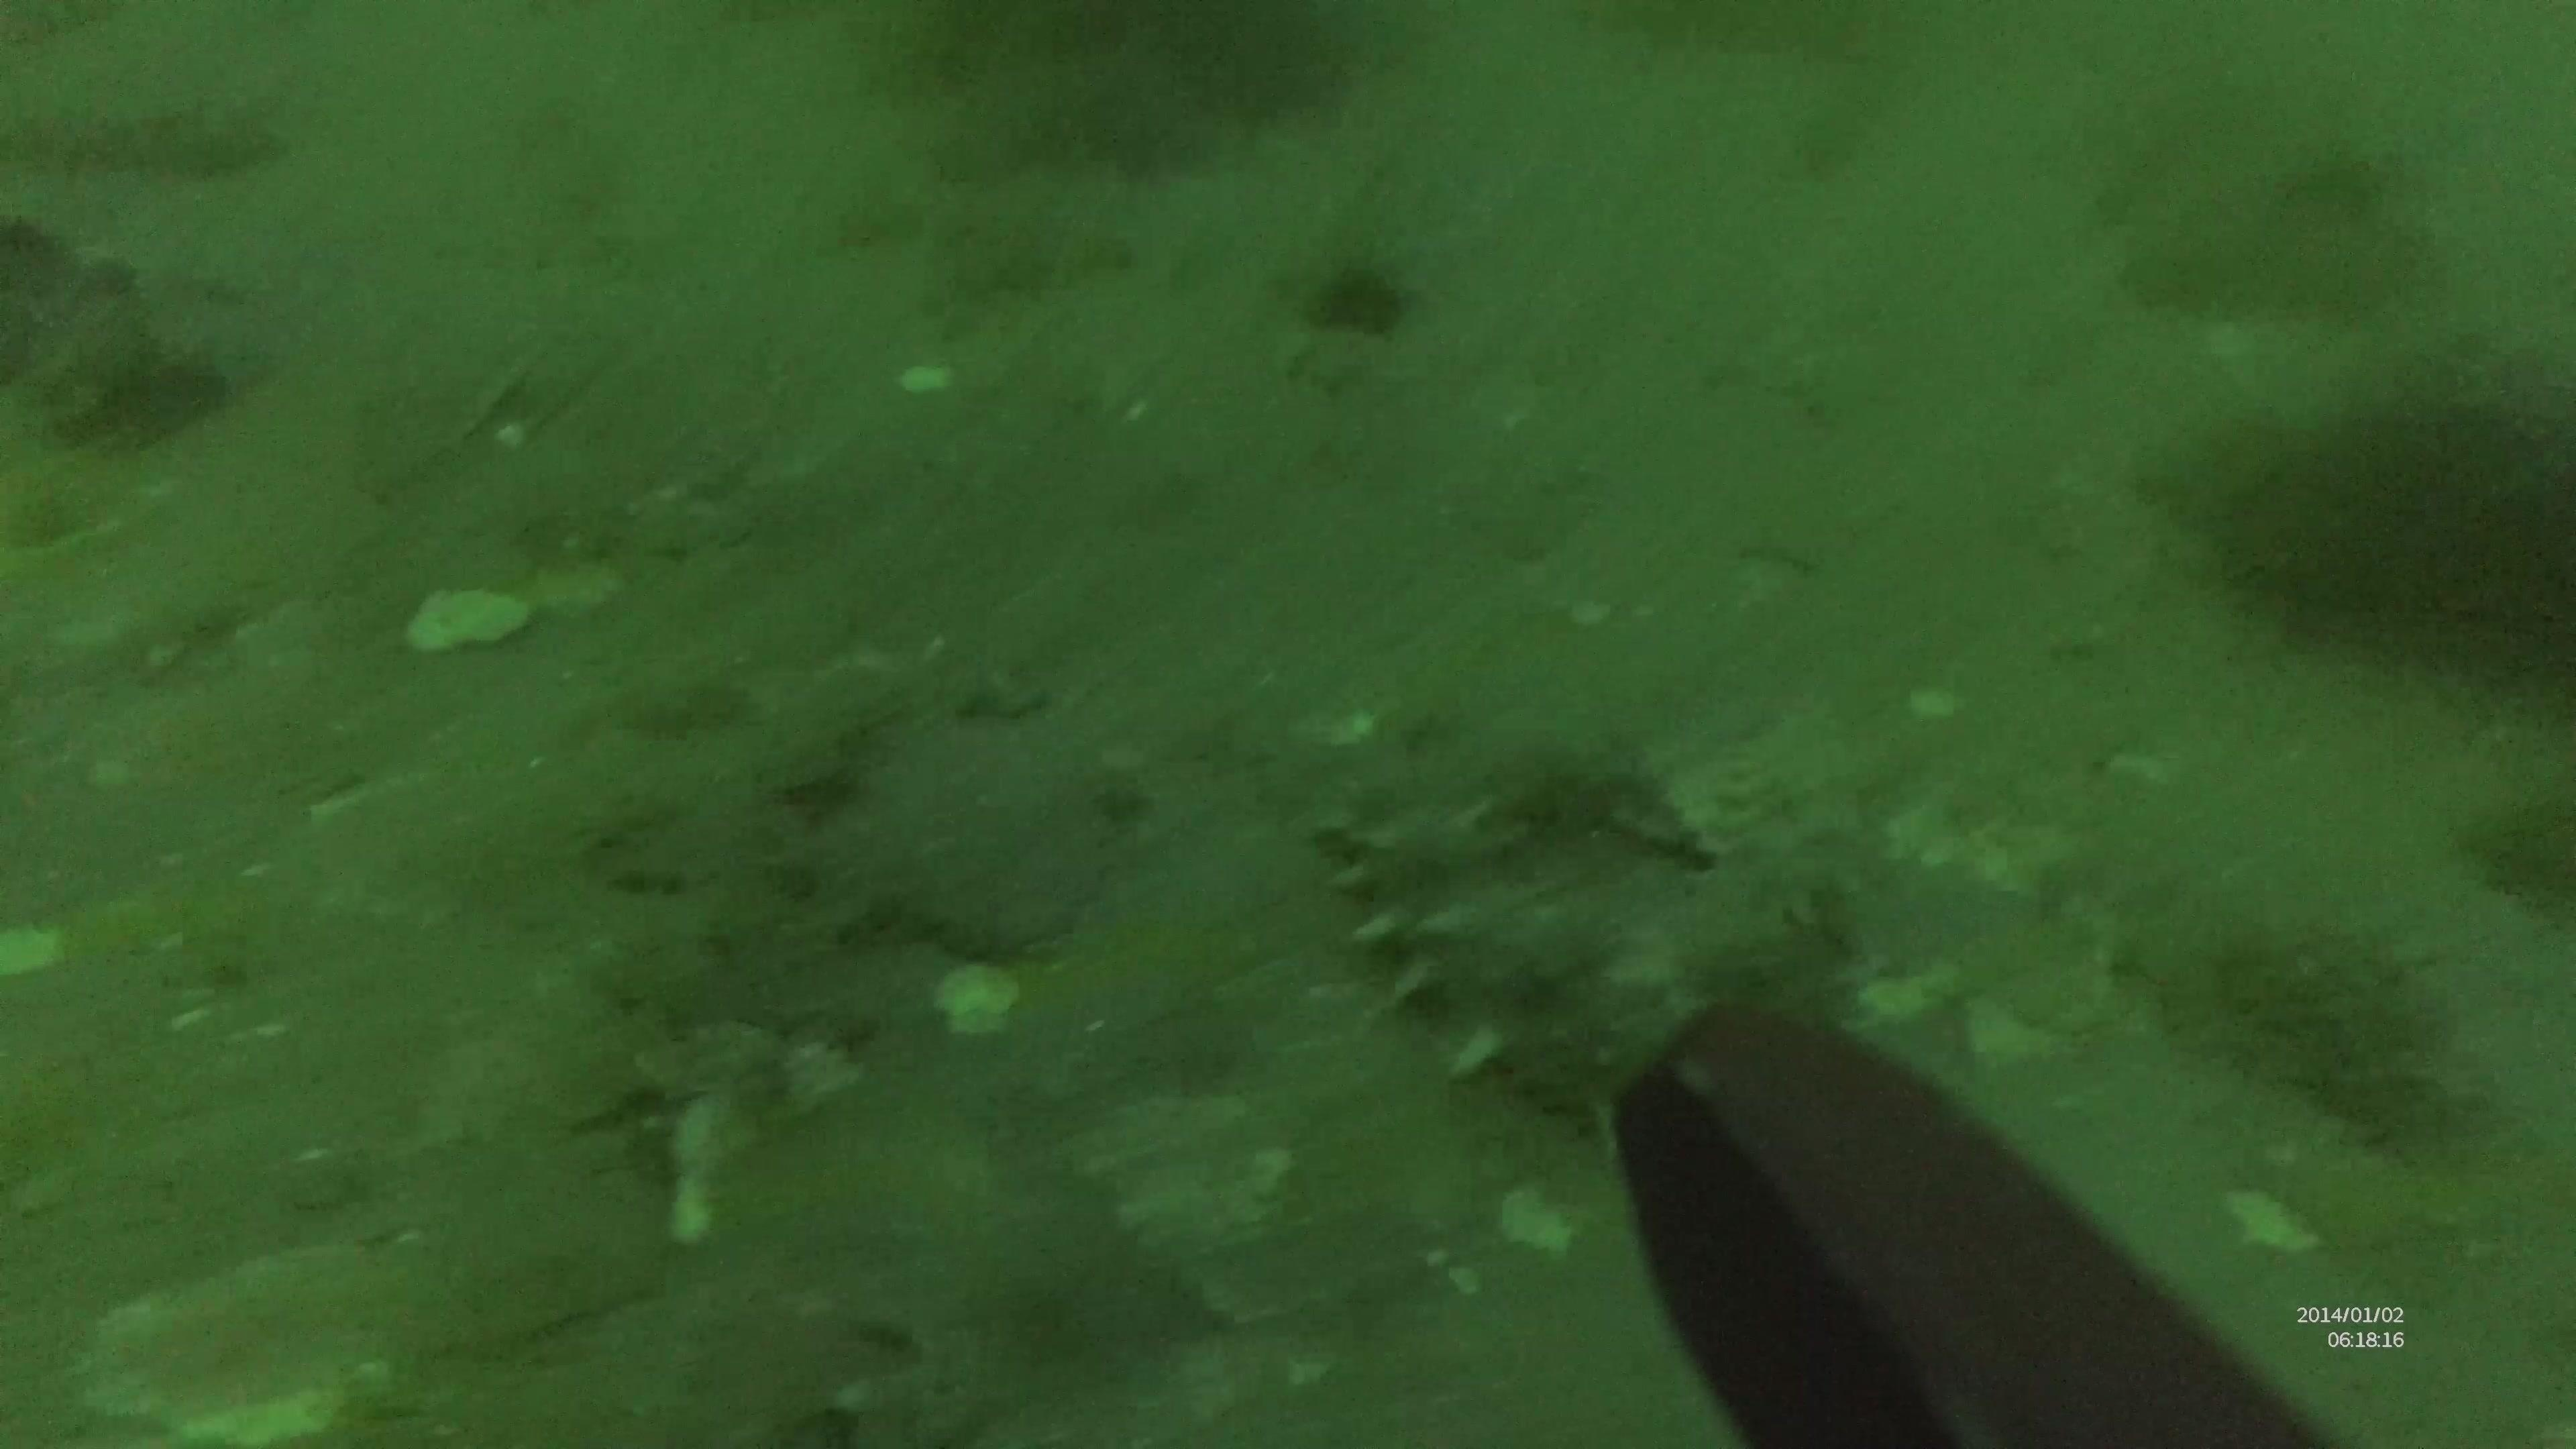holothurian: (1315, 770, 1879, 1125)
